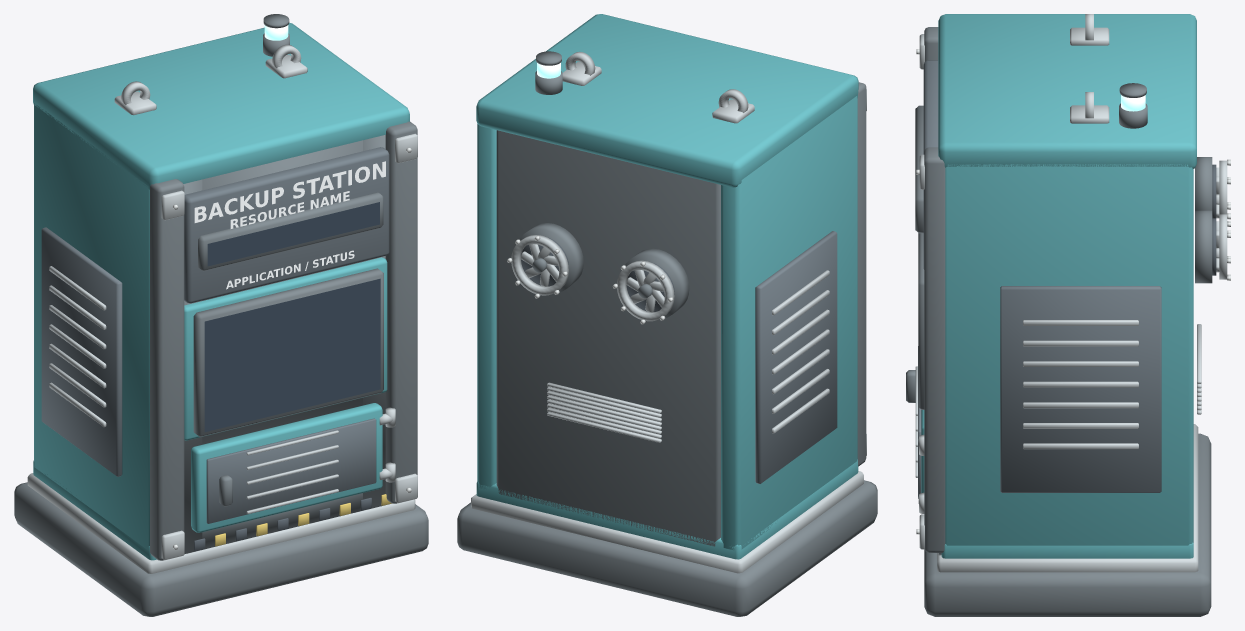
The model's file is backup_station_enhanced.glb.
3 renders of one model, left to right at view 1: azimuth 30°, elevation 25°; view 2: azimuth 150°, elevation 25°; view 3: azimuth 270°, elevation 25°, orthographic. The views are drawn at different scales.
Parts seen in each view (by area): view 1: Roof_teal, SideWall_teal, CornerPost_frame, LiveViewSurface_glass, Skid_frame, FrontHeader_graphite, SideServicePanel_graphite, DoorMoving_Inset_graphite, DoorMoving_Panel_teal, SkidDeck_steel, LiveViewSurfaceFrame_frame, ScreenSupport_teal (+16 smaller); view 2: BackWall_frame, SideWall_teal, Roof_teal, Skid_frame, SideServicePanel_graphite, SkidDeck_steel, KickPlate_teal, RearFan_steel, RearVent_steel, CornerPost_frame, RearFan_frame, SideLouver_steel (+3 smaller); view 3: SideWall_teal, Roof_teal, SideServicePanel_graphite, Skid_frame, CornerPost_frame, SideLouver_steel, SkidDeck_steel, KickPlate_teal, RearFan_frame, FrontHeader_graphite, RearFan_steel, LiftMount_steel (+7 smaller).
Boxes of the visible parts, x1,y1,x2,y2 form: Roof_teal: [33, 23, 409, 189]; SideWall_teal: [34, 103, 149, 550]; CornerPost_frame: [150, 121, 417, 560]; LiveViewSurface_glass: [204, 278, 380, 432]; Skid_frame: [14, 482, 428, 616]; FrontHeader_graphite: [184, 147, 389, 303]; SideServicePanel_graphite: [41, 227, 122, 476]; DoorMoving_Inset_graphite: [206, 418, 376, 523]; DoorMoving_Panel_teal: [191, 403, 382, 532]; SkidDeck_steel: [27, 473, 415, 573]; LiveViewSurfaceFrame_frame: [193, 268, 383, 436]; ScreenSupport_teal: [184, 257, 387, 440]; BackWall_frame: [496, 130, 720, 546]; SideWall_teal: [477, 96, 857, 550]; Roof_teal: [476, 14, 858, 187]; Skid_frame: [457, 480, 877, 616]; SideServicePanel_graphite: [755, 231, 837, 483]; SkidDeck_steel: [471, 471, 863, 573]; KickPlate_teal: [476, 459, 858, 559]; RearFan_steel: [511, 235, 674, 321]; RearVent_steel: [547, 382, 661, 442]; CornerPost_frame: [857, 82, 866, 466]; RearFan_frame: [519, 223, 689, 317]; SideLouver_steel: [772, 270, 829, 433]; SideWall_teal: [945, 164, 1193, 545]; Roof_teal: [938, 14, 1196, 168]; SideServicePanel_graphite: [1000, 286, 1161, 492]; Skid_frame: [924, 433, 1211, 616]; CornerPost_frame: [924, 27, 945, 552]; SideLouver_steel: [1023, 320, 1138, 449]; SkidDeck_steel: [937, 424, 1198, 572]; KickPlate_teal: [941, 542, 1193, 558]; RearFan_frame: [1195, 157, 1212, 283]; FrontHeader_graphite: [923, 60, 938, 269]; RearFan_steel: [1216, 160, 1227, 279]; LiftMount_steel: [1070, 27, 1109, 123].
Bounding box in the file's own units: 1.6 × 2.53 × 1.48.
